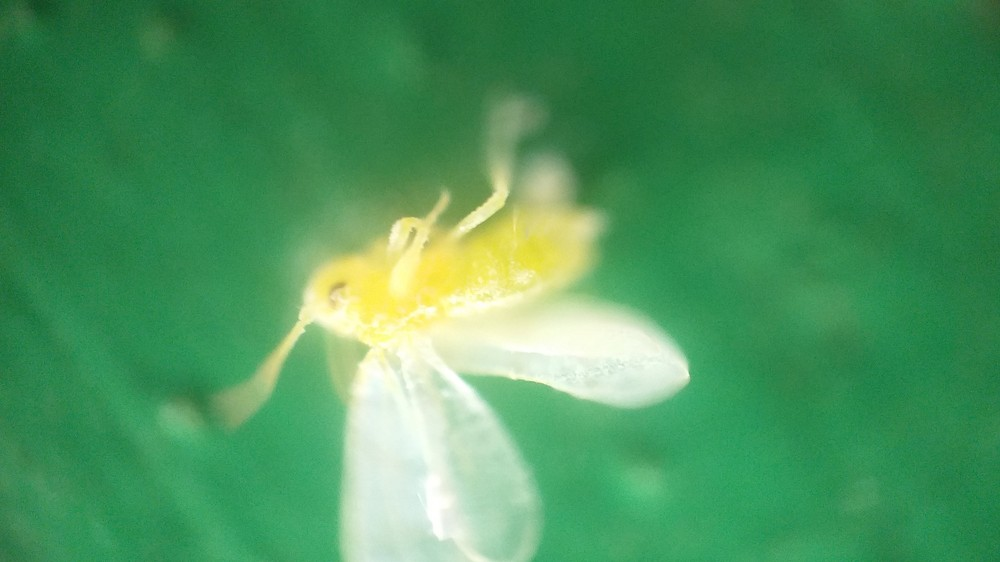Mosca Blanca: (207, 84, 720, 562)
